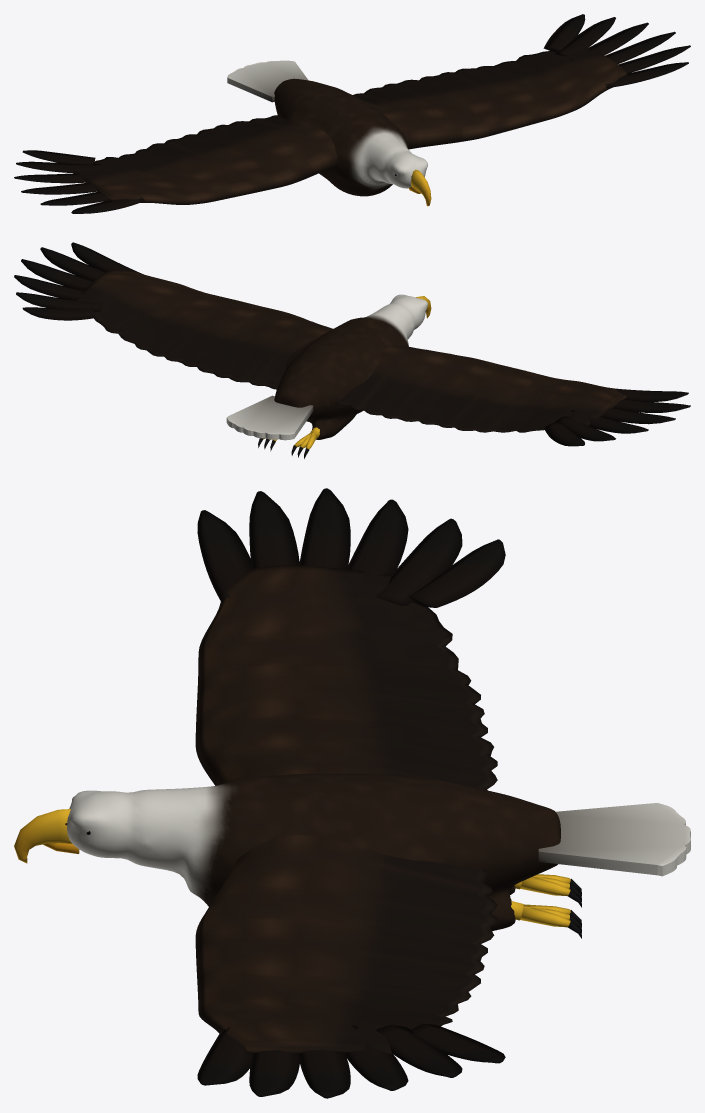
The model's file is BaldEagle.fbx.
The picture shows the model from 3 angles, top to bottom: view 1: azimuth 30°, elevation 25°; view 2: azimuth 150°, elevation 25°; view 3: azimuth 270°, elevation 25°; orthographic projection. The views are drawn at different scales.
Parts seen in each view (by area): view 1: BaldEagle; view 2: BaldEagle; view 3: BaldEagle.
Part boxes in pixels (x1,y1,x2,y2): BaldEagle: (14, 14, 690, 213); BaldEagle: (14, 242, 690, 458); BaldEagle: (14, 488, 690, 1098).
Bounding box in the file's own units: 2.54 × 0.278 × 1.19.
